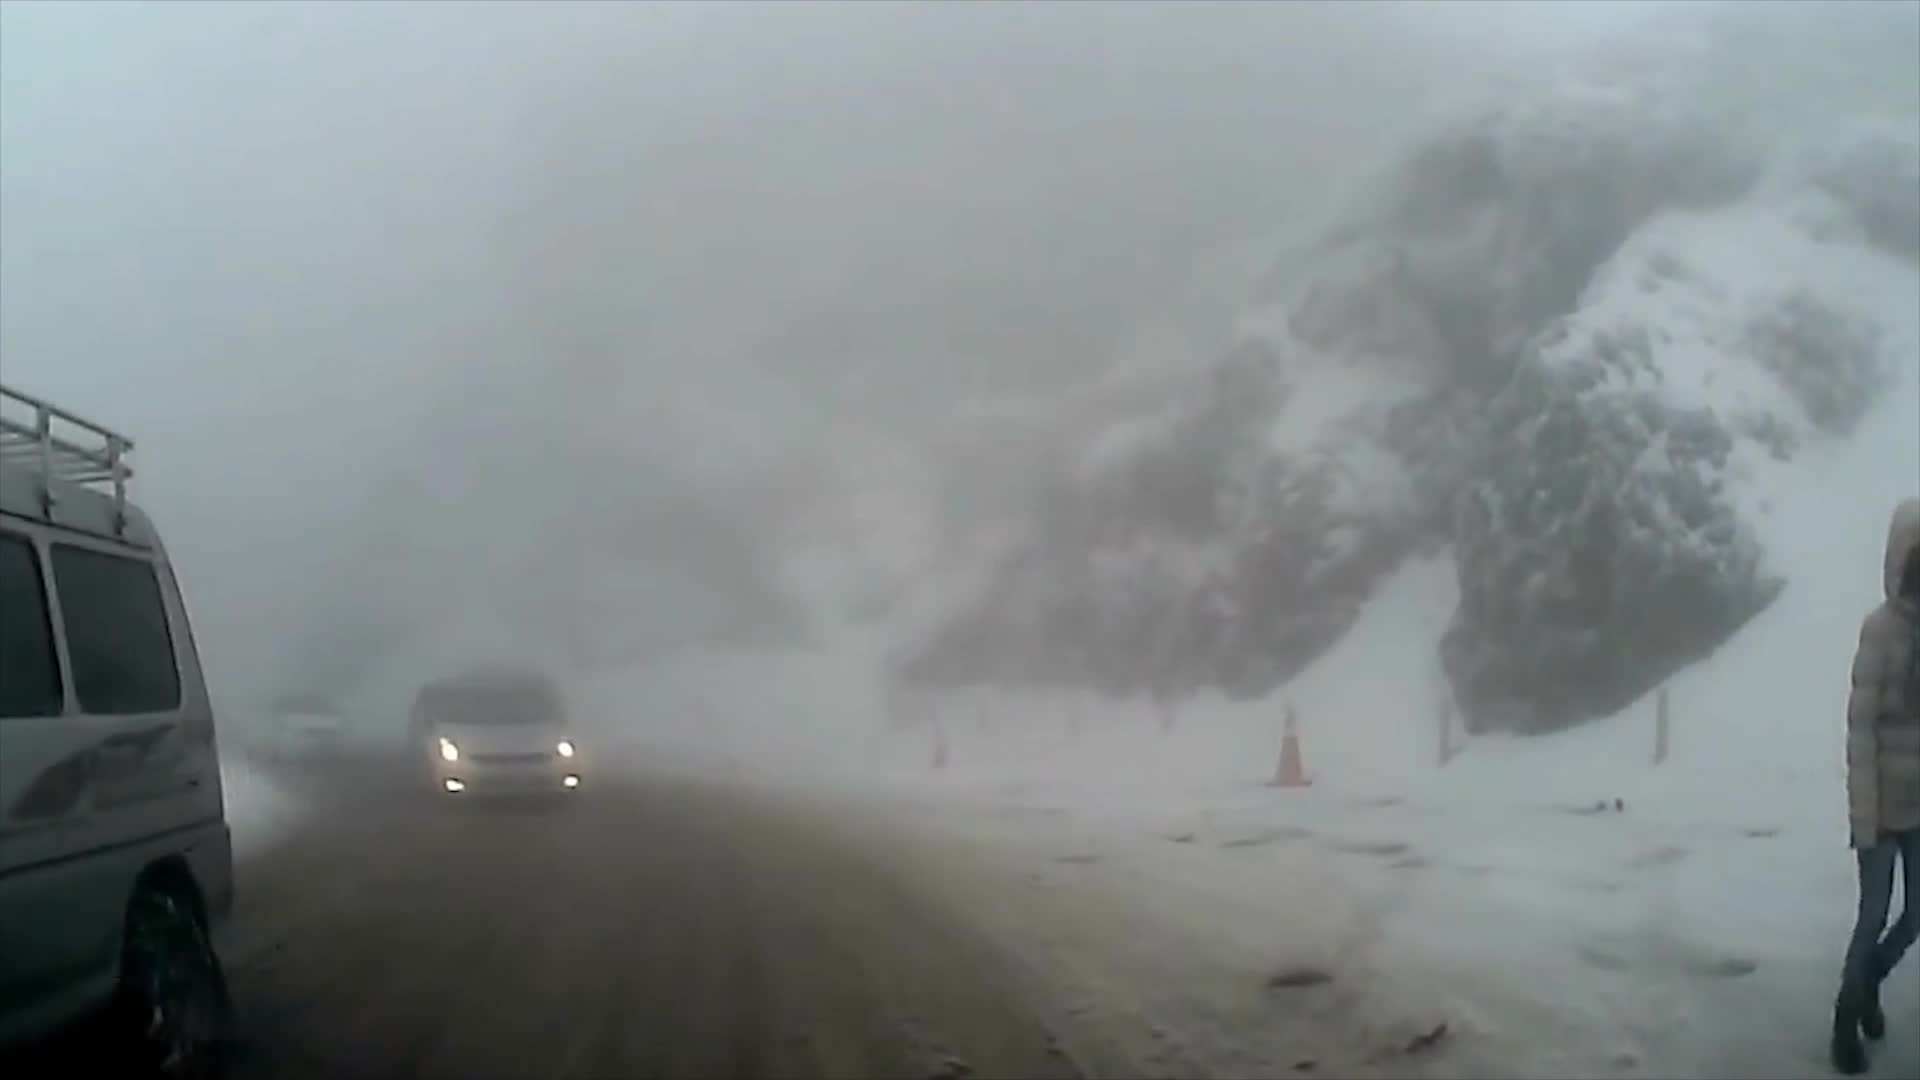pedestrian: (1836, 510, 1920, 1066)
vehicle: (0, 385, 282, 1079), (400, 674, 583, 816)
